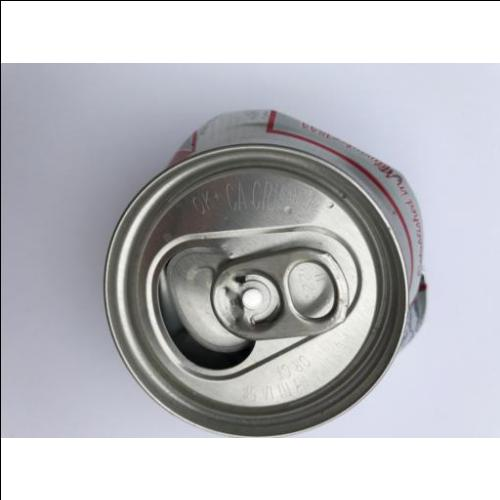metal: (104, 109, 429, 436)
